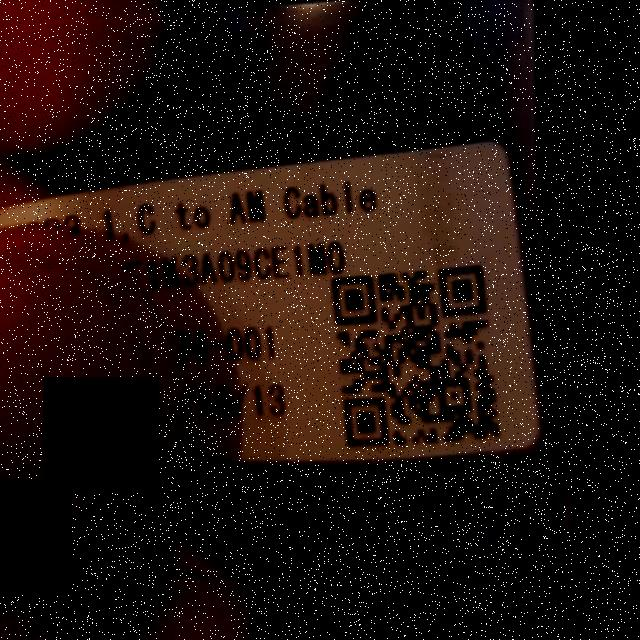QR_CODE: (321, 246, 511, 460)
